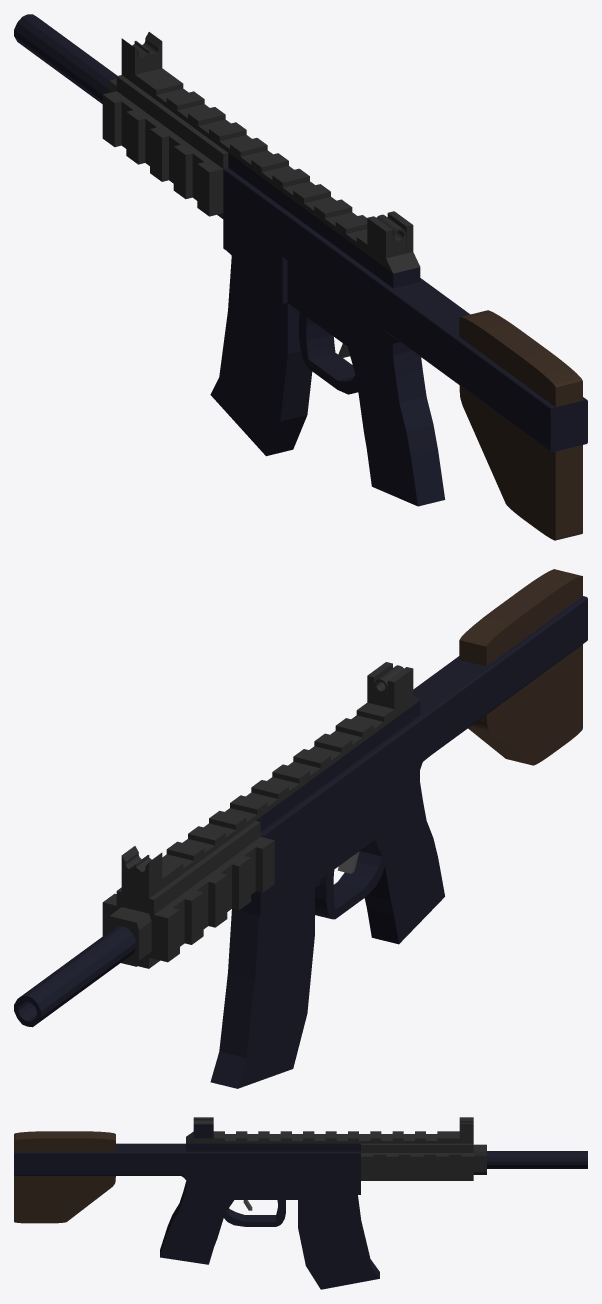
The model's file is autorifle.fbx.
3 views of the same model, one above another, from view 1: azimuth 30°, elevation 25°; view 2: azimuth 150°, elevation 25°; view 3: azimuth 270°, elevation 25° (orthographic). The views are drawn at different scales.
Parts seen in each view (by area): view 1: Cube; view 2: Cube; view 3: Cube.
Boxes of the visible parts, x1=… form: Cube: x1=14, y1=14, x2=587, y2=540; Cube: x1=14, y1=569, x2=587, y2=1088; Cube: x1=14, y1=1117, x2=587, y2=1289.
Bounding box in the file's own units: 4509 × 20623 × 64800.
